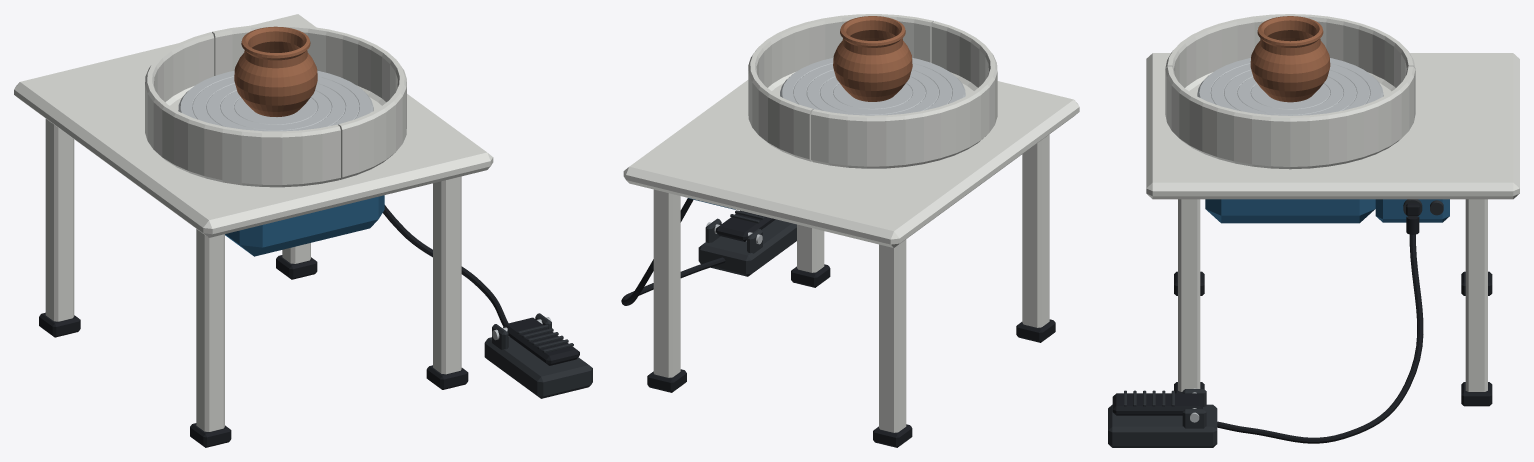
The picture shows the model from 3 angles, left to right: view 1: azimuth 30°, elevation 25°; view 2: azimuth 150°, elevation 25°; view 3: azimuth 270°, elevation 25°; orthographic projection. The views are drawn at different scales.
Visible parts, largest first — view 1: Worktable top, Splashpan left shell, Splashpan right shell, Rotating grooved wheelhead, Rotating original hollow clay vessel, Square leg -0.245 0.27, Square leg -0.245 -0.27, Square leg 0.245 -0.27, Motor housing, Pedal fixed base, Pedal moving rocker, Foot pedal signal cable (+4 smaller); view 2: Worktable top, Splashpan left shell, Splashpan right shell, Rotating grooved wheelhead, Rotating original hollow clay vessel, Square leg -0.245 0.27, Square leg 0.245 0.27, Square leg -0.245 -0.27, Pedal fixed base, Square leg 0.245 -0.27, Foot pedal signal cable, Pedal moving rocker (+4 smaller); view 3: Worktable top, Splashpan right shell, Splashpan left shell, Rotating grooved wheelhead, Rotating original hollow clay vessel, Square leg 0.245 0.27, Square leg 0.245 -0.27, Motor housing, Pedal fixed base, Foot pedal signal cable, Pedal moving rocker, Control side housing (+2 smaller).
Part boxes in pixels (bbox=[...]): Worktable top: bbox=[14, 14, 493, 237]; Splashpan left shell: bbox=[145, 32, 340, 187]; Splashpan right shell: bbox=[212, 24, 406, 179]; Rotating grooved wheelhead: bbox=[178, 70, 373, 131]; Rotating original hollow clay vessel: bbox=[234, 26, 317, 116]; Square leg -0.245 0.27: bbox=[45, 119, 74, 321]; Square leg -0.245 -0.27: bbox=[196, 229, 224, 431]; Square leg 0.245 -0.27: bbox=[433, 176, 461, 374]; Motor housing: bbox=[225, 195, 384, 256]; Pedal fixed base: bbox=[484, 337, 592, 398]; Pedal moving rocker: bbox=[503, 317, 579, 365]; Foot pedal signal cable: bbox=[383, 205, 508, 326]; Worktable top: bbox=[623, 80, 1079, 247]; Splashpan left shell: bbox=[811, 21, 997, 168]; Splashpan right shell: bbox=[748, 14, 933, 161]; Rotating grooved wheelhead: bbox=[780, 58, 965, 115]; Rotating original hollow clay vessel: bbox=[833, 16, 912, 101]; Square leg -0.245 0.27: bbox=[879, 239, 906, 432]; Square leg 0.245 0.27: bbox=[653, 189, 680, 377]; Square leg -0.245 -0.27: bbox=[1022, 134, 1049, 327]; Pedal fixed base: bbox=[698, 219, 796, 276]; Square leg 0.245 -0.27: bbox=[797, 224, 824, 272]; Foot pedal signal cable: bbox=[621, 198, 725, 305]; Pedal moving rocker: bbox=[716, 210, 775, 241]; Worktable top: bbox=[1146, 53, 1519, 199]; Splashpan right shell: bbox=[1165, 66, 1415, 169]; Splashpan left shell: bbox=[1165, 14, 1415, 95]; Rotating grooved wheelhead: bbox=[1197, 58, 1383, 115]; Rotating original hollow clay vessel: bbox=[1250, 16, 1330, 102]; Square leg 0.245 0.27: bbox=[1465, 199, 1487, 391]; Square leg 0.245 -0.27: bbox=[1178, 199, 1200, 391]; Motor housing: bbox=[1205, 199, 1375, 223]; Pedal fixed base: bbox=[1108, 404, 1217, 447]; Foot pedal signal cable: bbox=[1217, 234, 1423, 443]; Pedal moving rocker: bbox=[1112, 393, 1202, 415]; Control side housing: bbox=[1375, 199, 1449, 222].
Size of the model in its own units: 0.7785 by 0.657 by 0.7735.
